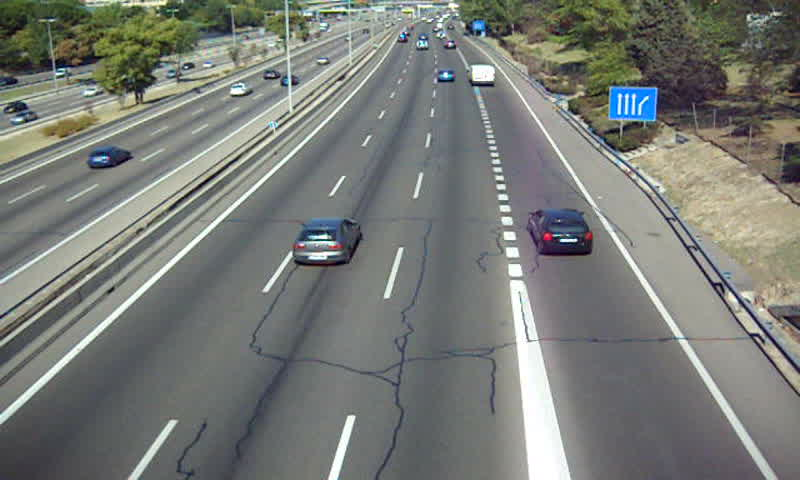car: (292, 218, 360, 265), (529, 209, 593, 255), (436, 70, 455, 84)
van: (467, 64, 495, 87)
